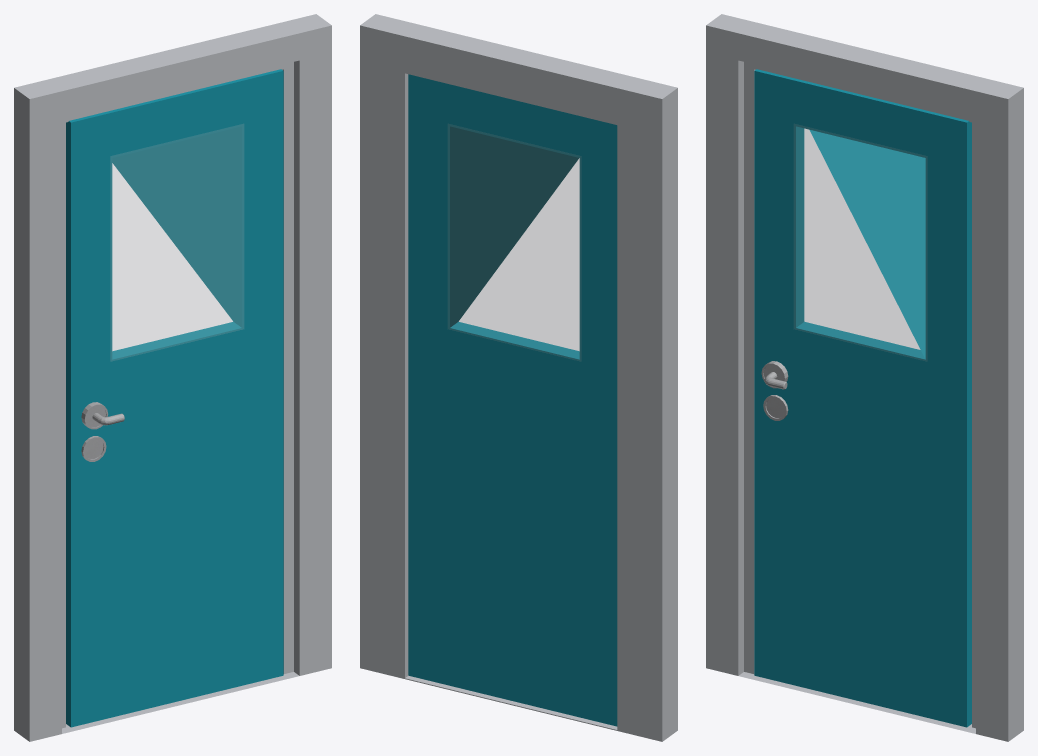
The model's file is pintuLabFix.fbx.
3 renders of one model, left to right at view 1: azimuth 30°, elevation 25°; view 2: azimuth 150°, elevation 25°; view 3: azimuth 330°, elevation 25°, orthographic.
Parts seen in each view (by area): view 1: Cube.001; view 2: Cube.001; view 3: Cube.001.
Boxes of the visible parts, x1=… form: Cube.001: x1=14, y1=14, x2=331, y2=741; Cube.001: x1=360, y1=14, x2=677, y2=741; Cube.001: x1=706, y1=14, x2=1023, y2=741.
Bounding box in the file's own units: 129 × 261 × 18.08.
6 materials, 3 textured.
